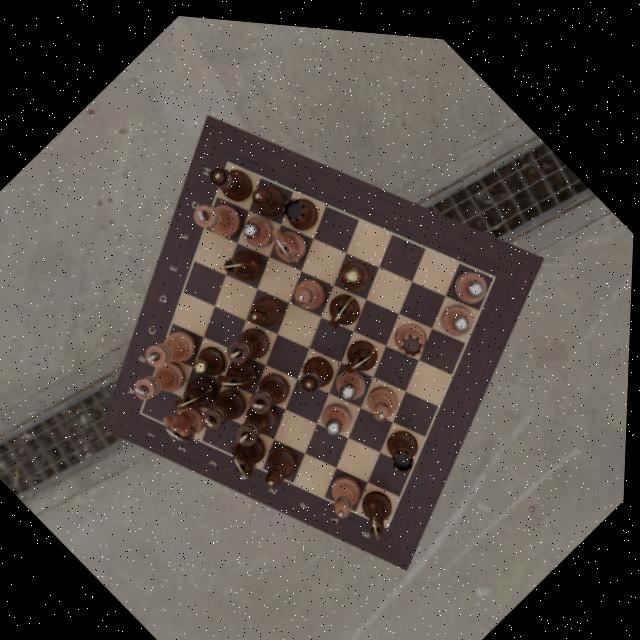chess-table-corners: (476, 248, 512, 285), (213, 144, 244, 177), (130, 396, 158, 426), (374, 504, 402, 534)
